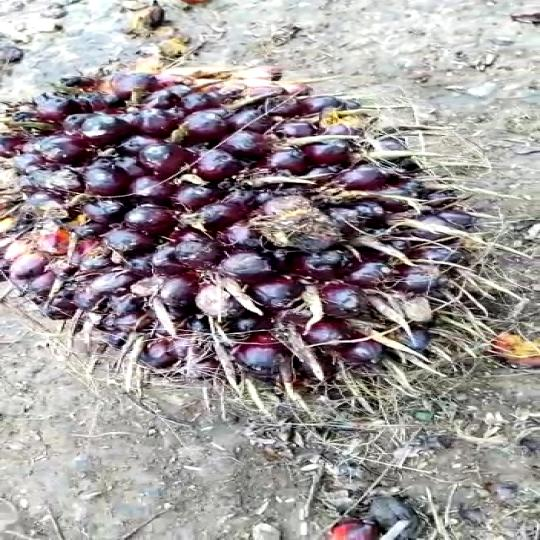mentah: (4, 53, 514, 416)
